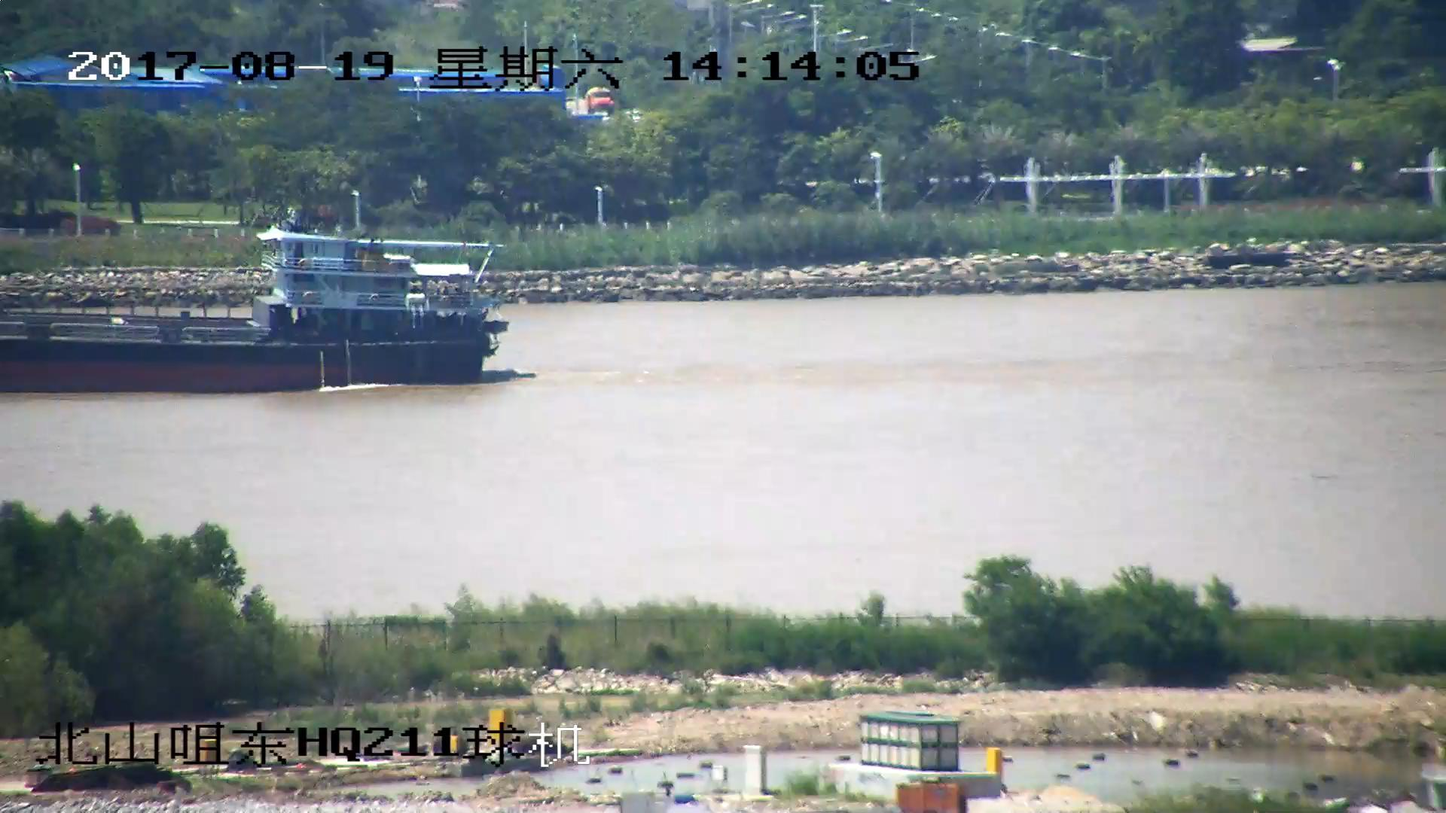bulk cargo carrier: (0, 219, 497, 391)
